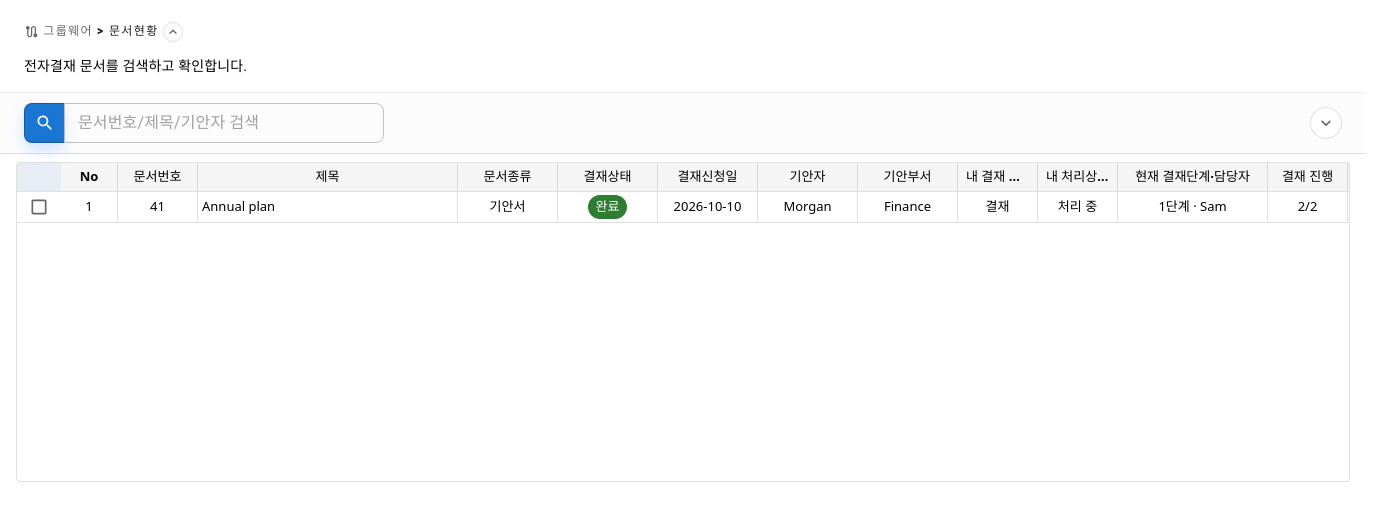
Test: document status page › opens the existing approval detail overlay for the selected document and closes it
Expected: the text "41" is shown, x1=150 y1=197 x2=165 y2=215
Click the checkbox.
click(39, 207)  # box x1=29 y1=197 x2=49 y2=217
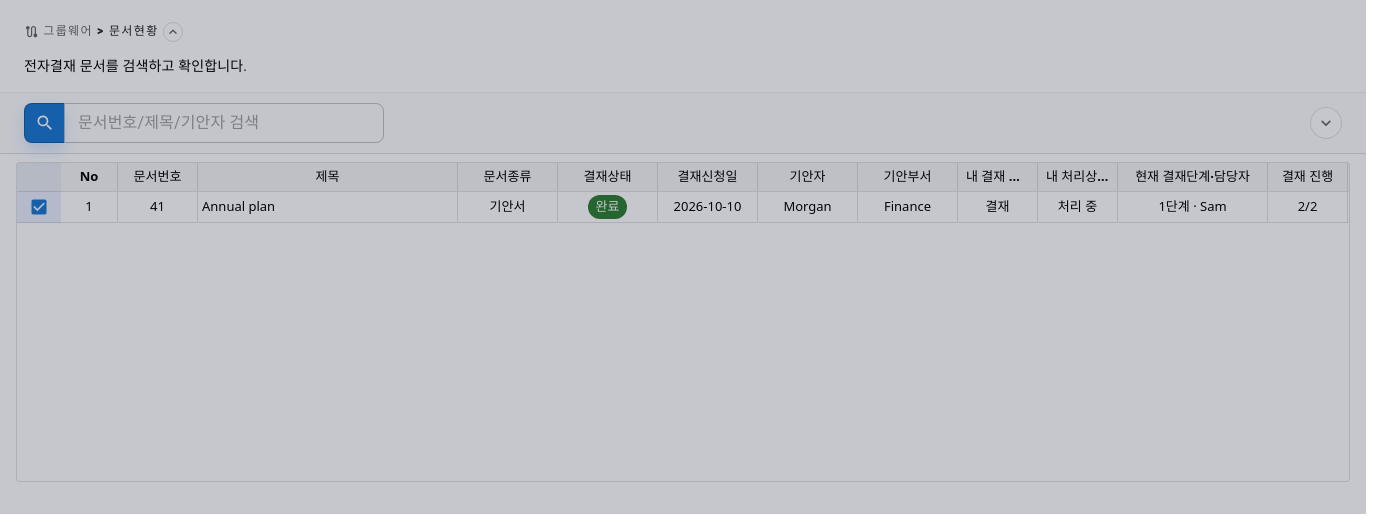
Now the element with test id "page-area-overlay" is shown
Click the element with test id "page-area-overlay-backdrop".
click(82, 257)  # box x1=0 y1=0 x2=1366 y2=514
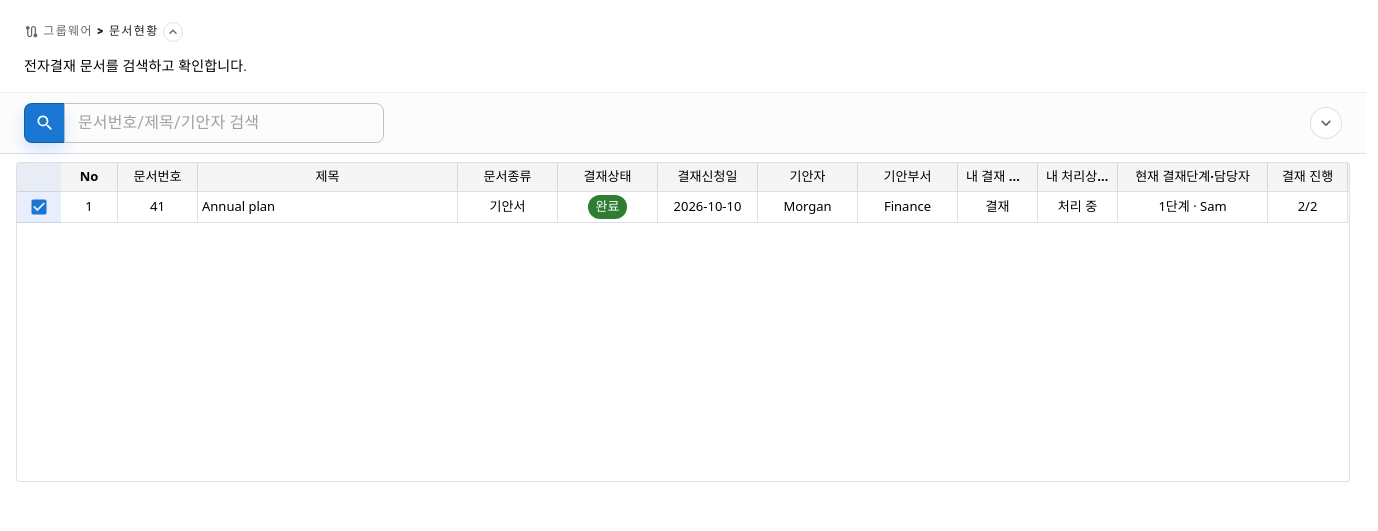
Now the element with test id "page-area-overlay" is gone
